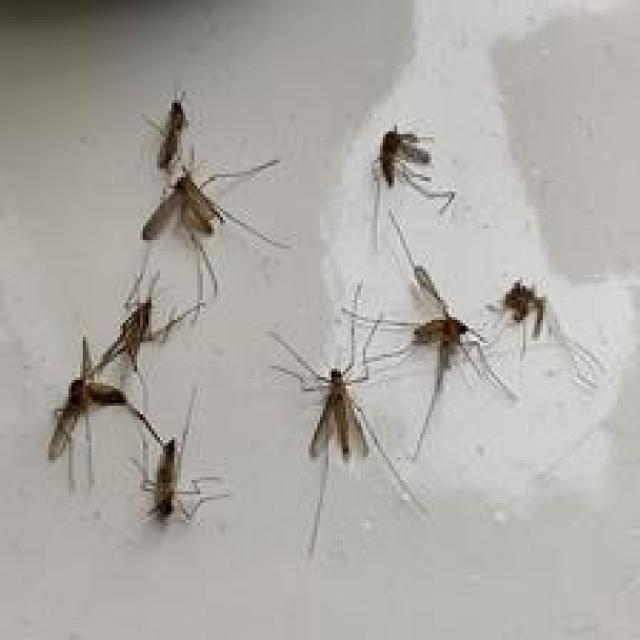Culex: (267, 312, 430, 557)
